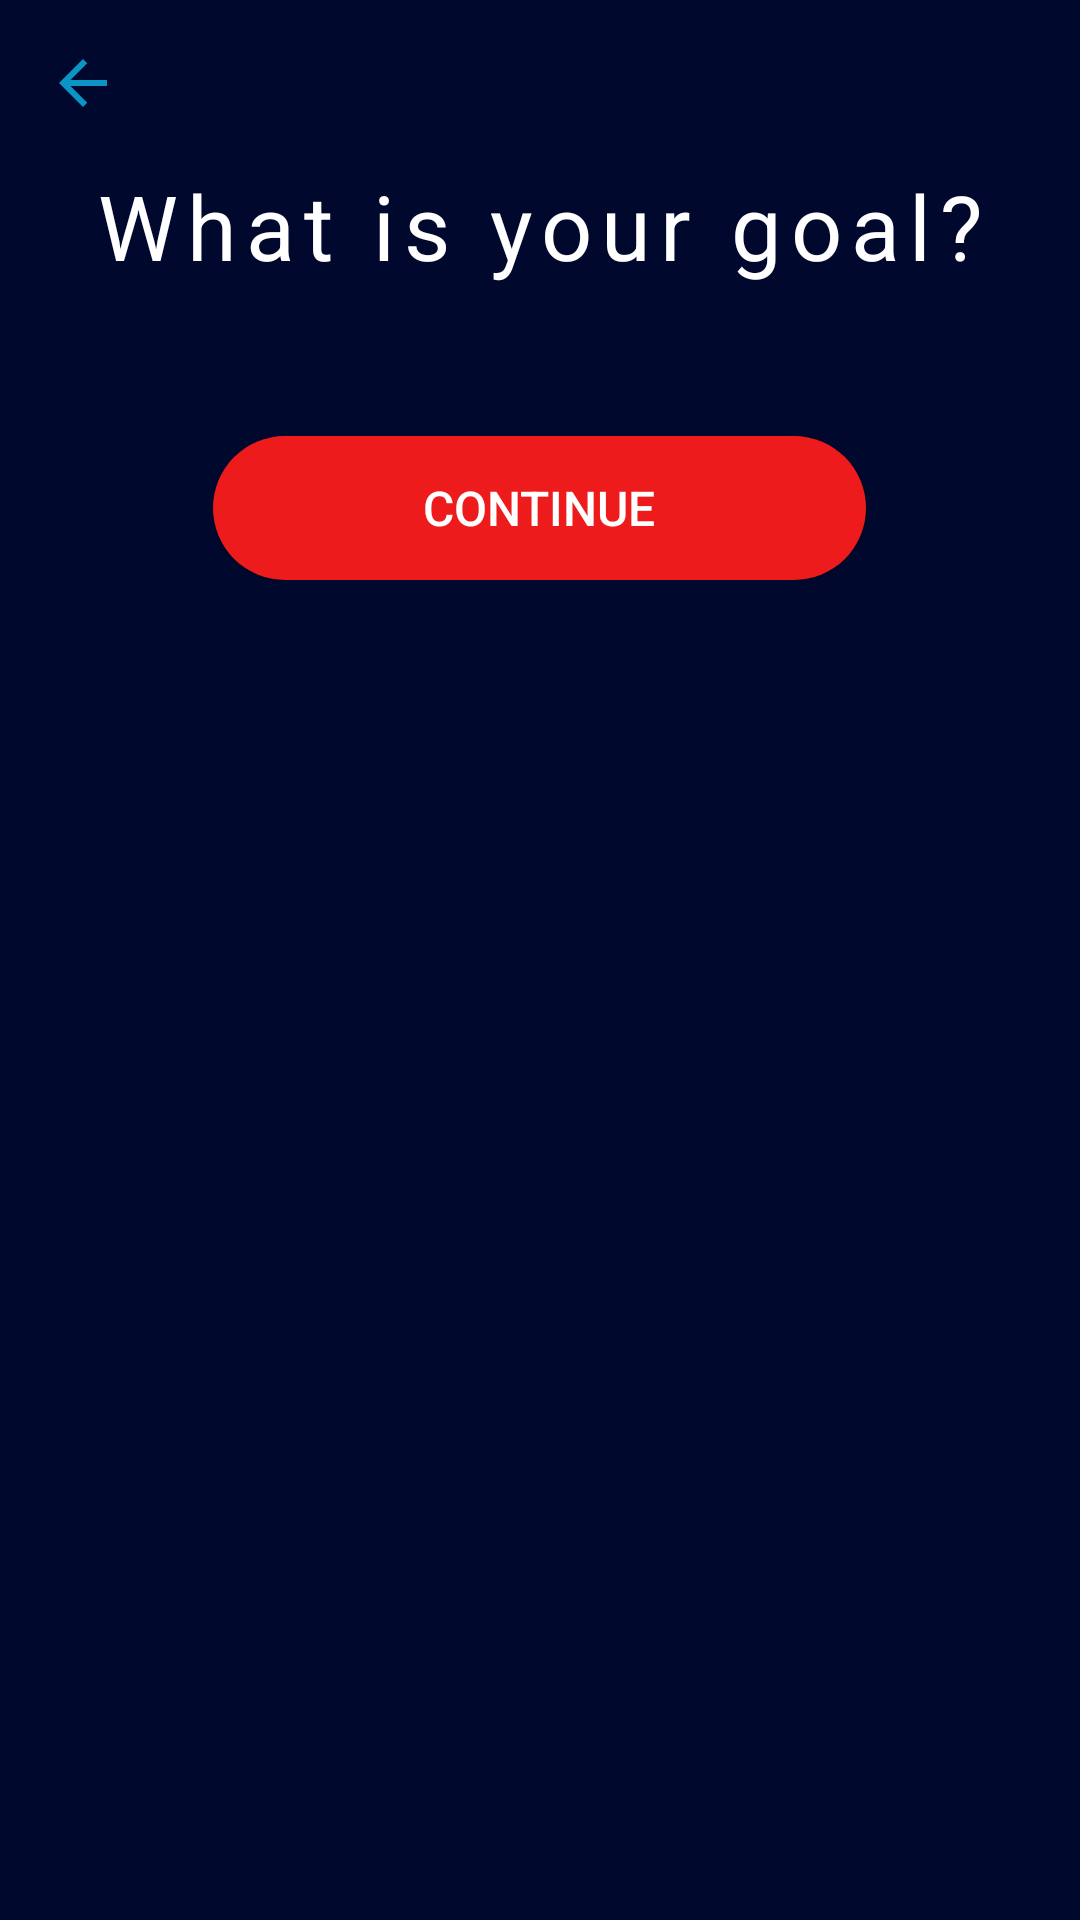

Locate icon controls on the screen. Image size 1080 × 1920, boxes as box(x1, y1, x2, y2).
arrow back short: box(59, 59, 107, 107)
